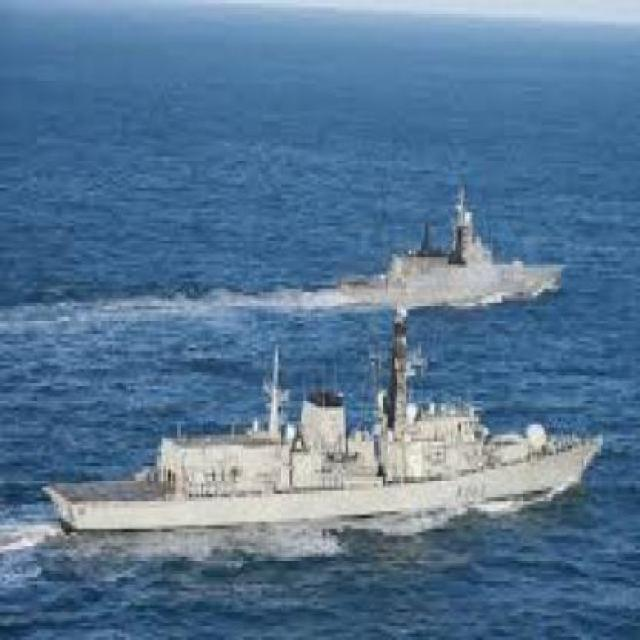warship2: (41, 304, 613, 533), (299, 172, 592, 315)
